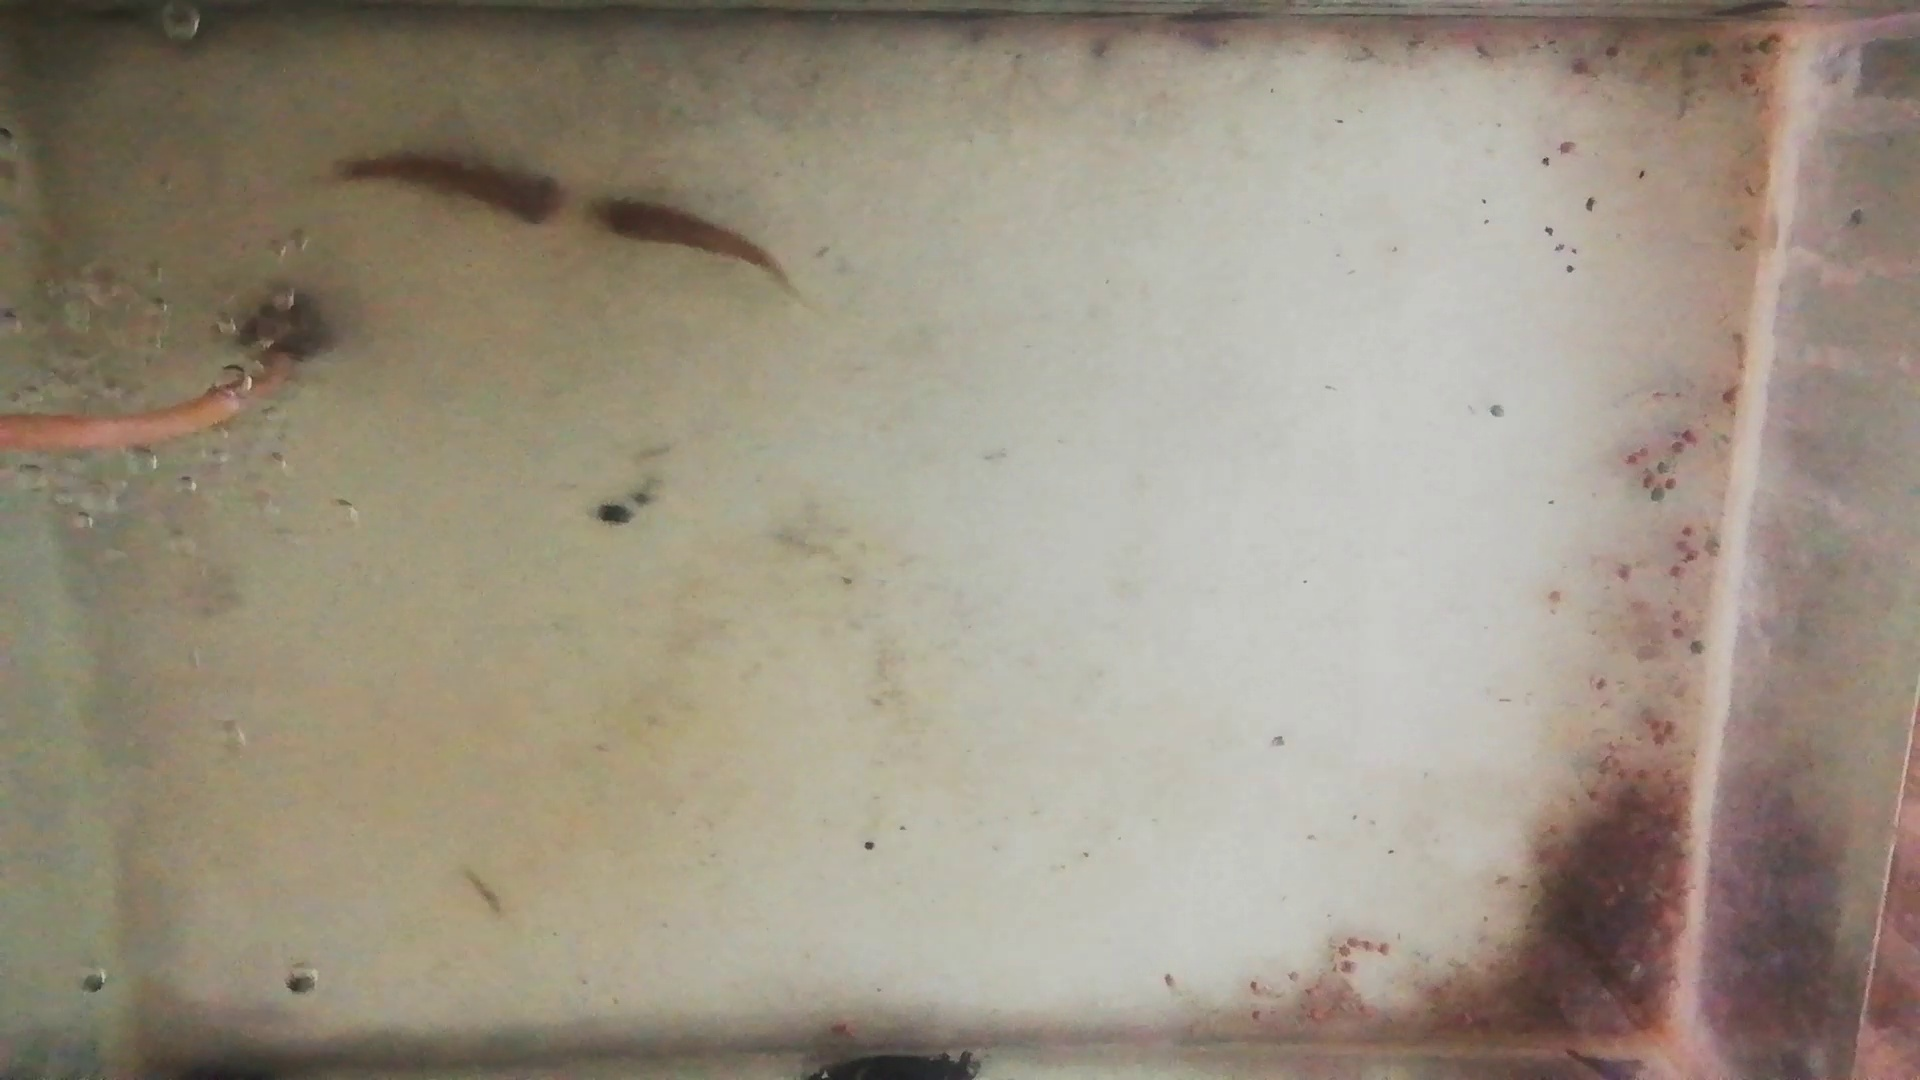fish: (339, 154, 562, 229), (589, 196, 785, 276)
